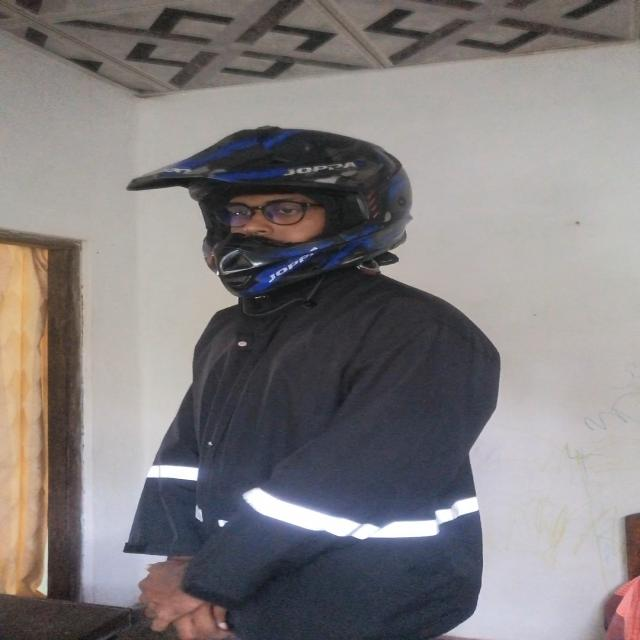Helmet_Wearer: (134, 122, 410, 286)
Jacket_Wearer: (132, 275, 487, 627)
Person: (108, 112, 496, 638)
